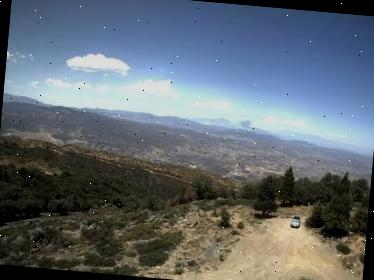smoke: (231, 113, 259, 131)
